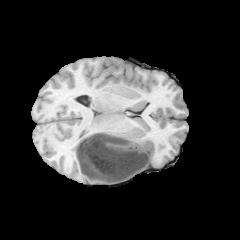glioma: (70, 130, 150, 183)
